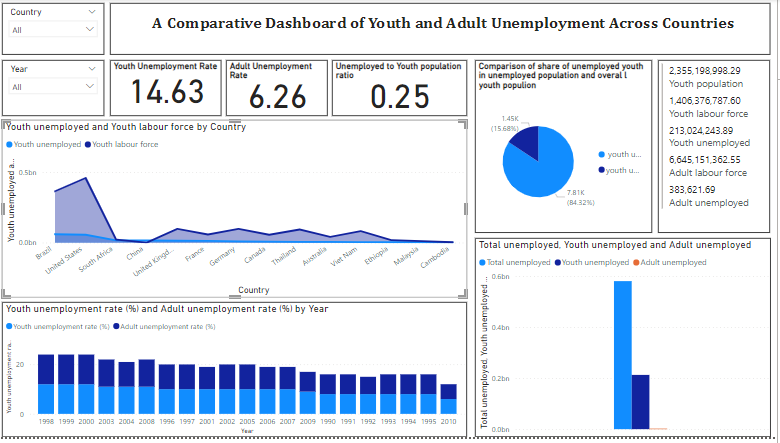

Layout of this report page (visuals, bound fields, positions):
{"tool":"powerbi","page":{"name":"Page 1","canvas":[1280,720],"ordinal":0},"visuals":[{"type":"pieChart","title":"Comparison  of share of unemployed youth in unemployed population and overal l youth populion","fields":{"Y":["Sum(youth_unemployment_data.Share of youth unemployed in total unemployed (%))","Sum(youth_unemployment_data.Share of youth unemployed in youth population (%))"]},"box":[783.6,99.9,291,284.2],"z":0},{"type":"columnChart","fields":{"Category":["youth_unemployment_data.Year"],"Y":["Count(youth_unemployment_data.Youth unemployment rate (%))","Count(youth_unemployment_data.Adult unemployment rate (%))"]},"box":[5.8,497.4,764.4,221.8],"z":1000},{"type":"areaChart","fields":{"Y":["Sum(youth_unemployment_data.Youth unemployed)","Sum(youth_unemployment_data.Youth labour force)"],"Category":["youth_unemployment_data.Country"]},"box":[5.8,198.8,764.4,291.9],"z":2000},{"type":"multiRowCard","fields":{"Values":["Sum(youth_unemployment_data.Youth population )","Sum(youth_unemployment_data.Youth labour force)","Sum(youth_unemployment_data.Youth unemployed)","Sum(youth_unemployment_data.Adult labour force)","Sum(youth_unemployment_data.Adult unemployed )"]},"box":[1085.1,99.9,184.4,284.2],"z":3000},{"type":"card","title":"Youth Unemployment Rate","fields":{"Values":["youth_unemployment_data.YouthUnemploymentRate"]},"box":[184.4,99.9,183.4,92.2],"z":4000},{"type":"card","title":"Adult Unemployment Rate","fields":{"Values":["youth_unemployment_data.AdultUnemploymentRate"]},"box":[374.5,99.9,167.1,92.2],"z":5000},{"type":"card","title":"Unemployed to Youth population ratio","fields":{"Values":["youth_unemployment_data.UnemployedToYouthPopulationRatio"]},"box":[548.3,99.9,221.8,92.2],"z":6000},{"type":"clusteredColumnChart","fields":{"Y":["Sum(youth_unemployment_data.Total unemployed)","Sum(youth_unemployment_data.Youth unemployed)","Sum(youth_unemployment_data.Adult unemployed )"]},"box":[783.6,392.7,485.9,327.4],"z":7000},{"type":"slicer","fields":{"Values":["youth_unemployment_data.Country"]},"box":[5.8,6.7,168,84.5],"z":8000},{"type":"slicer","fields":{"Values":["youth_unemployment_data.Year"]},"box":[5.8,99.9,168,92.2],"z":9000},{"type":"textbox","box":[184.4,6.7,1085.1,84.5],"z":10000}]}

Visuals, with their boxes in screenshot pixels (x1, y1, x2, y2), scaled from the page's 1280x720 canvas onto the 780x443 screenshot:
"Comparison  of share of unemployed youth in unemployed population and overal l youth populion" pieChart: <bbox>478, 61, 655, 236</bbox>
columnChart - youth_unemployment_data.Year x Count(youth_unemployment_data.Youth unemployment rate (%)): <bbox>4, 306, 469, 442</bbox>
areaChart - Sum(youth_unemployment_data.Youth unemployed) x Sum(youth_unemployment_data.Youth labour force): <bbox>4, 122, 469, 302</bbox>
multiRowCard - Sum(youth_unemployment_data.Youth population ) x Sum(youth_unemployment_data.Youth labour force): <bbox>661, 61, 774, 236</bbox>
"Youth Unemployment Rate" card: <bbox>112, 61, 224, 118</bbox>
"Adult Unemployment Rate" card: <bbox>228, 61, 330, 118</bbox>
"Unemployed to Youth population ratio" card: <bbox>334, 61, 469, 118</bbox>
clusteredColumnChart - Sum(youth_unemployment_data.Total unemployed) x Sum(youth_unemployment_data.Youth unemployed): <bbox>478, 242, 774, 442</bbox>
slicer - youth_unemployment_data.Country: <bbox>4, 4, 106, 56</bbox>
slicer - youth_unemployment_data.Year: <bbox>4, 61, 106, 118</bbox>
textbox: <bbox>112, 4, 774, 56</bbox>
